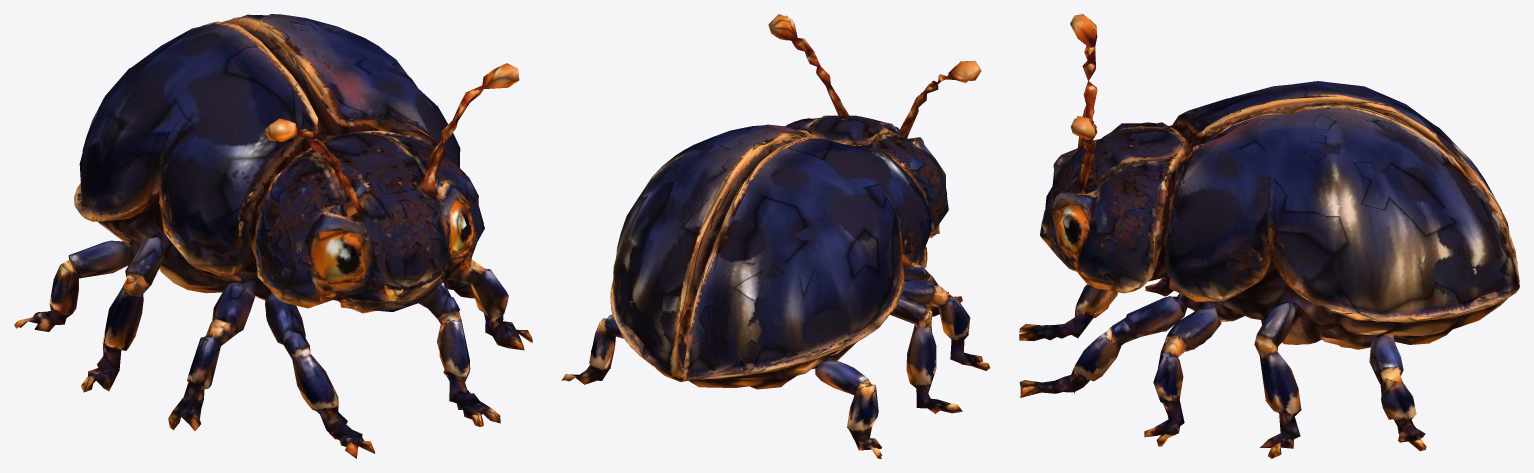
File: attachment_beetle.glb
3 views of the same model, side by side, from view 1: azimuth 30°, elevation 25°; view 2: azimuth 150°, elevation 25°; view 3: azimuth 270°, elevation 25° (orthographic). The views are drawn at different scales.
Parts seen in each view (by area): view 1: body; view 2: body; view 3: body.
Boxes of the visible parts, x1,y1,x2,y2 form: body: (14, 14, 532, 458); body: (561, 14, 990, 458); body: (1019, 14, 1519, 458).
Size of the model in its own units: 0.8819 by 0.6574 by 1.
Materials: 1 (1 with a texture image).
